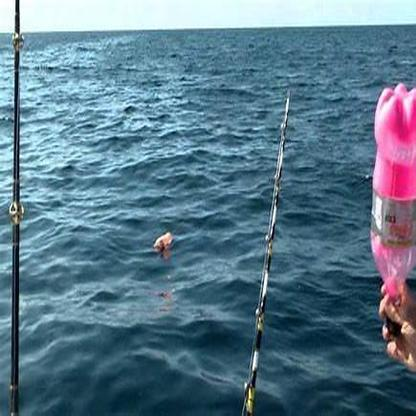plastic bottle: (370, 81, 416, 296), (153, 231, 174, 253)
